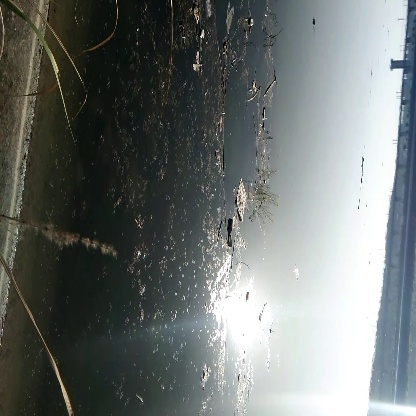plastic-garbage: (233, 176, 253, 222)
